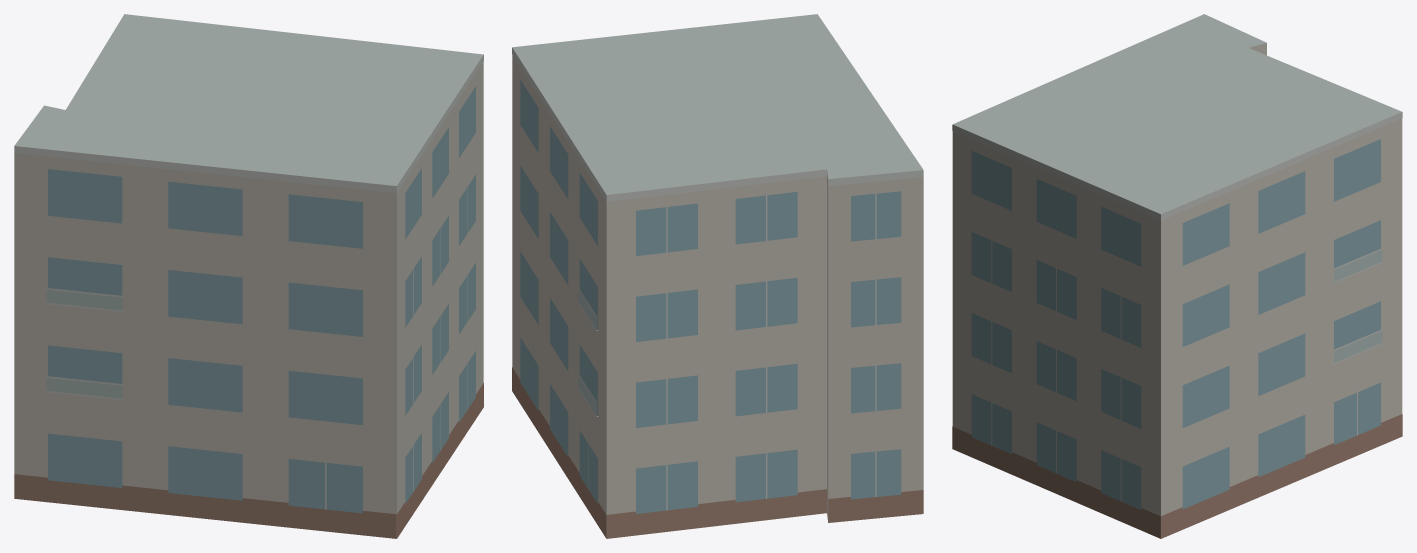
File: survey-upis-32936543.glb
3 views of the same model, side by side, from view 1: azimuth 30°, elevation 25°; view 2: azimuth 150°, elevation 25°; view 3: azimuth 270°, elevation 25° (orthographic). The views are drawn at different scales.
Parts seen in each view (by area): view 1: survey-upis-32936543.tmp; view 2: survey-upis-32936543.tmp; view 3: survey-upis-32936543.tmp.
Boxes of the visible parts, box(x1,y1,x2,y2) form: survey-upis-32936543.tmp: box(14, 14, 483, 538); survey-upis-32936543.tmp: box(512, 14, 923, 538); survey-upis-32936543.tmp: box(952, 14, 1402, 538).
Bounding box in the file's own units: 16.15 × 12.2 × 15.33.
